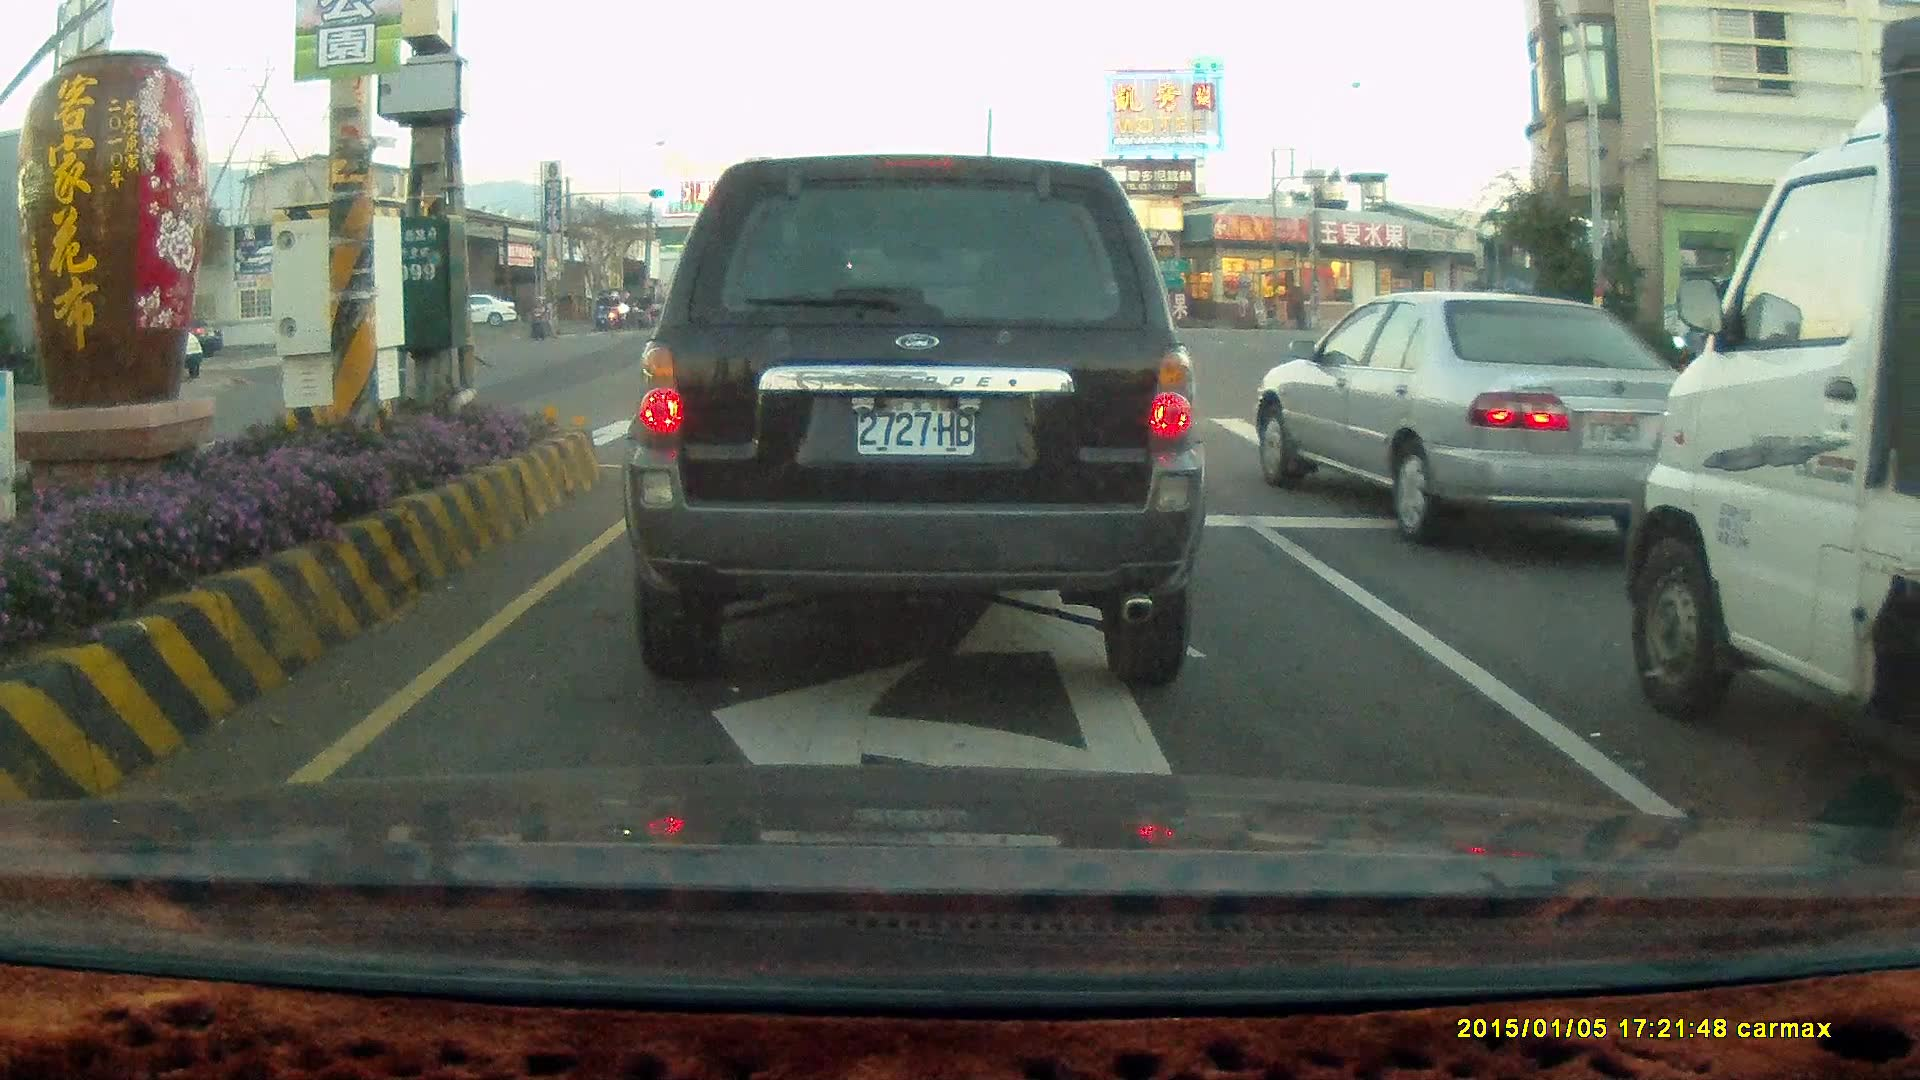rider: (526, 288, 556, 340), (632, 289, 654, 328), (591, 289, 612, 330), (595, 293, 616, 330)
vehicle: (618, 150, 1207, 693), (1619, 14, 1920, 785), (1250, 289, 1717, 548), (1261, 288, 1699, 547), (1669, 277, 1825, 372), (448, 295, 519, 328)
